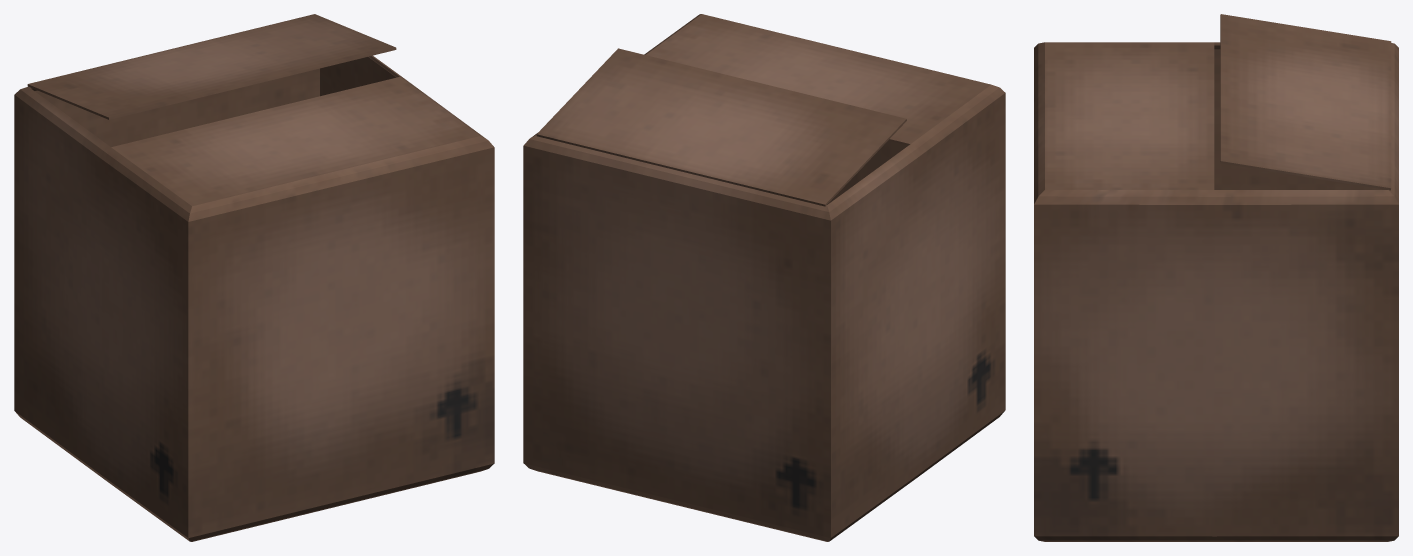
Rendered from MovingBox_01.fbx.
3 renders of one model, left to right at view 1: azimuth 30°, elevation 25°; view 2: azimuth 150°, elevation 25°; view 3: azimuth 270°, elevation 25°, orthographic. The views are drawn at different scales.
Parts seen in each view (by area): view 1: Box_01; view 2: Box_01; view 3: Box_01.
Boxes of the visible parts, x1,y1,x2,y2 form: Box_01: (14, 14, 494, 541); Box_01: (523, 14, 1005, 541); Box_01: (1034, 14, 1398, 541).
Bounding box in the file's own units: 7.09 × 8 × 6.95.
